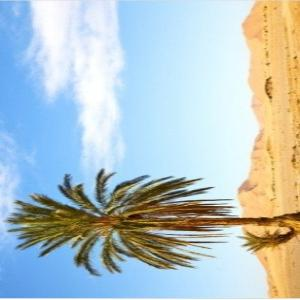palm tree: (4, 167, 237, 276)
